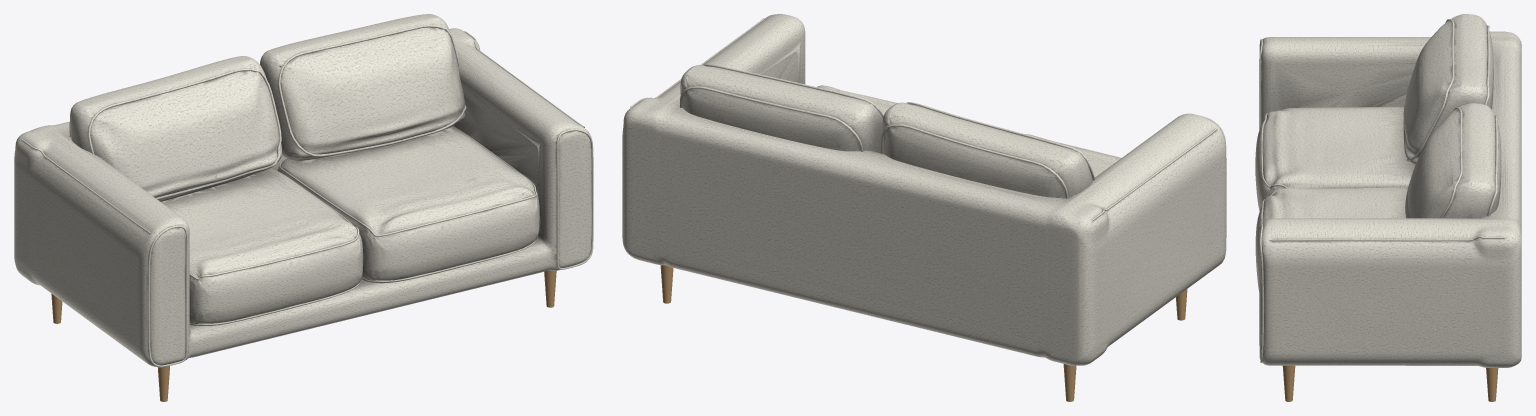
File: chenille-hueso.gltf
The picture shows the model from 3 angles, left to right: view 1: azimuth 30°, elevation 25°; view 2: azimuth 150°, elevation 25°; view 3: azimuth 270°, elevation 25°; orthographic projection. The views are drawn at different scales.
Parts seen in each view (by area): view 1: tela_ar, madera_ar; view 2: tela_ar, madera_ar; view 3: tela_ar, madera_ar.
Part boxes in pixels (bbox=[...]): tela_ar: bbox=[14, 14, 593, 367]; madera_ar: bbox=[51, 270, 556, 401]; tela_ar: bbox=[622, 14, 1226, 365]; madera_ar: bbox=[660, 265, 1187, 401]; tela_ar: bbox=[1255, 14, 1521, 367]; madera_ar: bbox=[1282, 365, 1498, 401].
Bounding box in the file's own units: 1.7 × 0.8275 × 0.9121.
2 materials, 2 textured.
